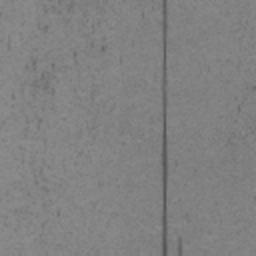Scratches: (161, 0, 169, 256), (177, 237, 183, 256)
